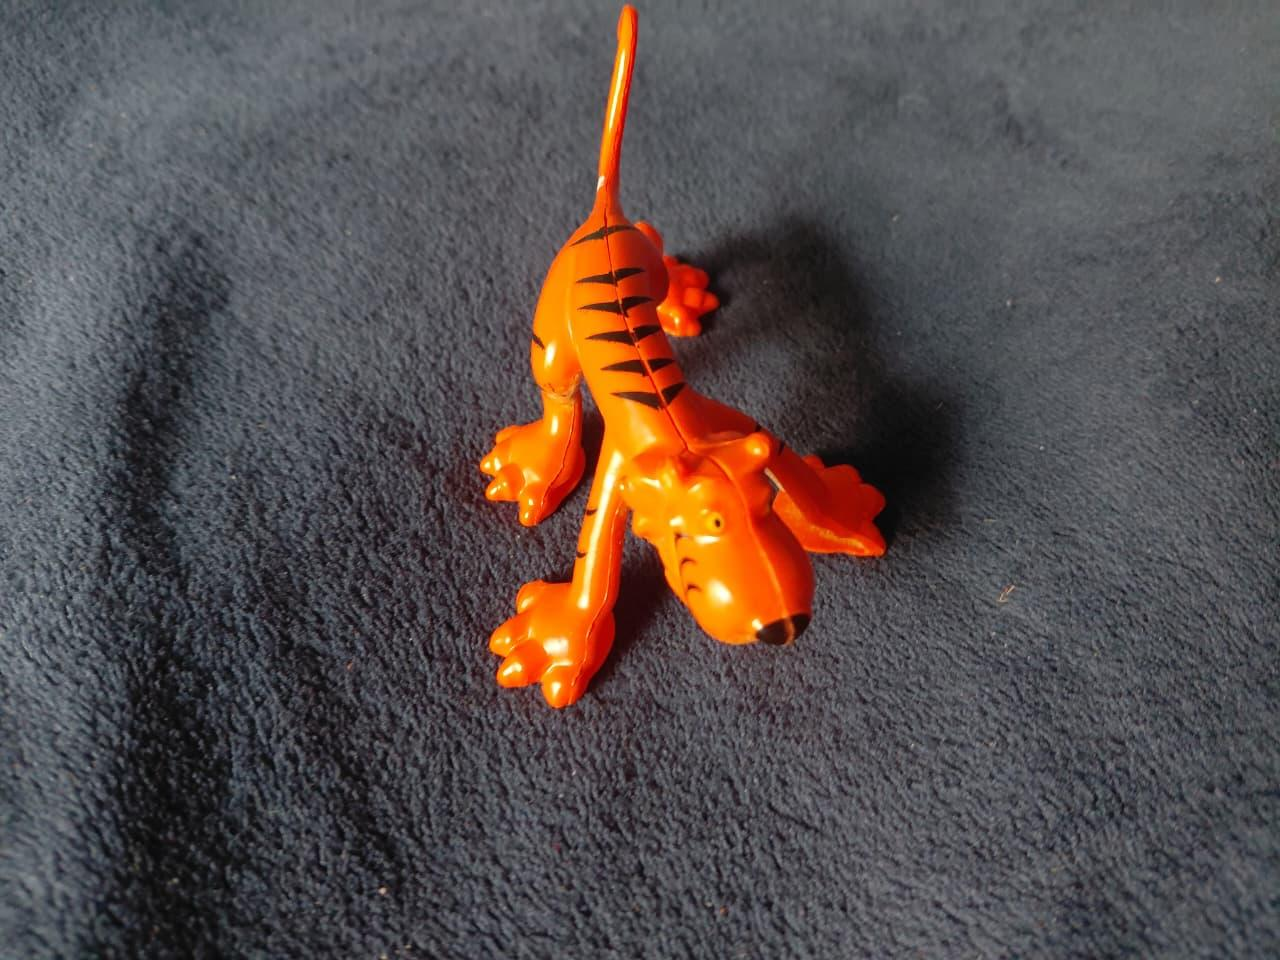tiger: (408, 8, 1008, 737)
